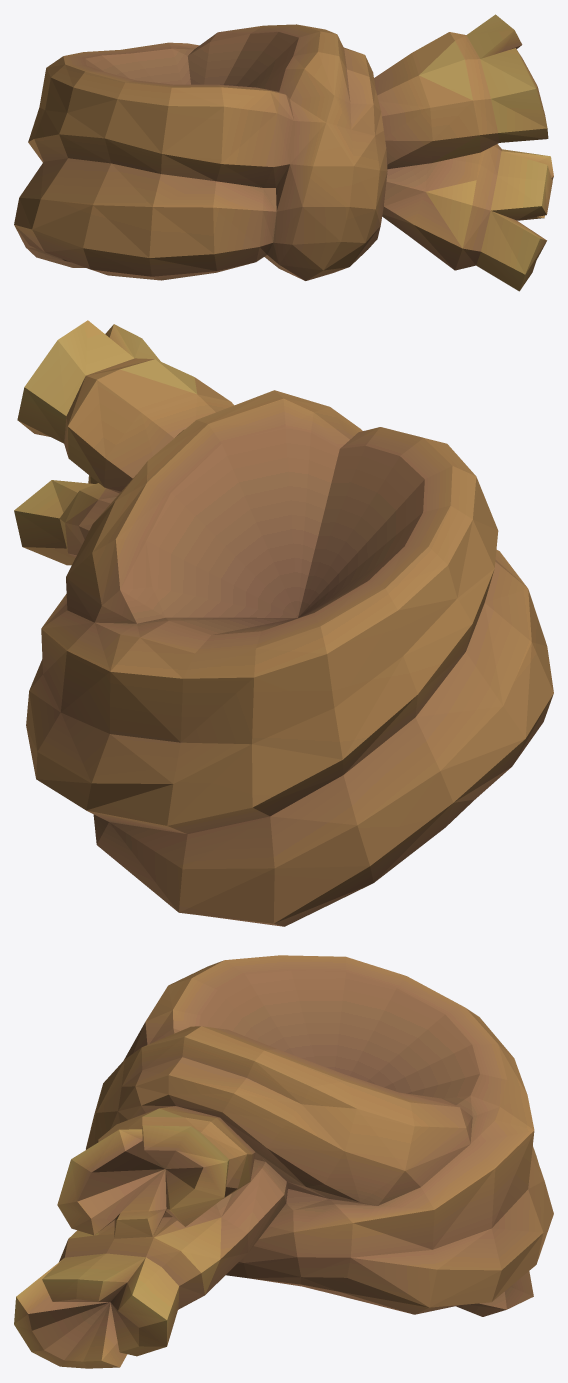
File: CharSkyKid_Neck_AP17Scarf.glb
3 renders of one model, top to bottom at view 1: azimuth 30°, elevation 25°; view 2: azimuth 150°, elevation 25°; view 3: azimuth 270°, elevation 25°, orthographic. The views are drawn at different scales.
Visible parts, largest first — view 1: CharSkyKid_Neck_AP17Scarf; view 2: CharSkyKid_Neck_AP17Scarf; view 3: CharSkyKid_Neck_AP17Scarf.
Boxes of the visible parts, x1,y1,x2,y2 form: CharSkyKid_Neck_AP17Scarf: (14,14,553,291); CharSkyKid_Neck_AP17Scarf: (14,320,553,926); CharSkyKid_Neck_AP17Scarf: (14,955,553,1368).
Bounding box in the file's own units: 4.4 × 2.59 × 3.93.
1 material, 1 textured.
